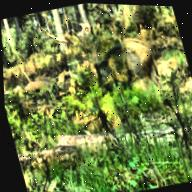boar: (67, 14, 175, 116)
